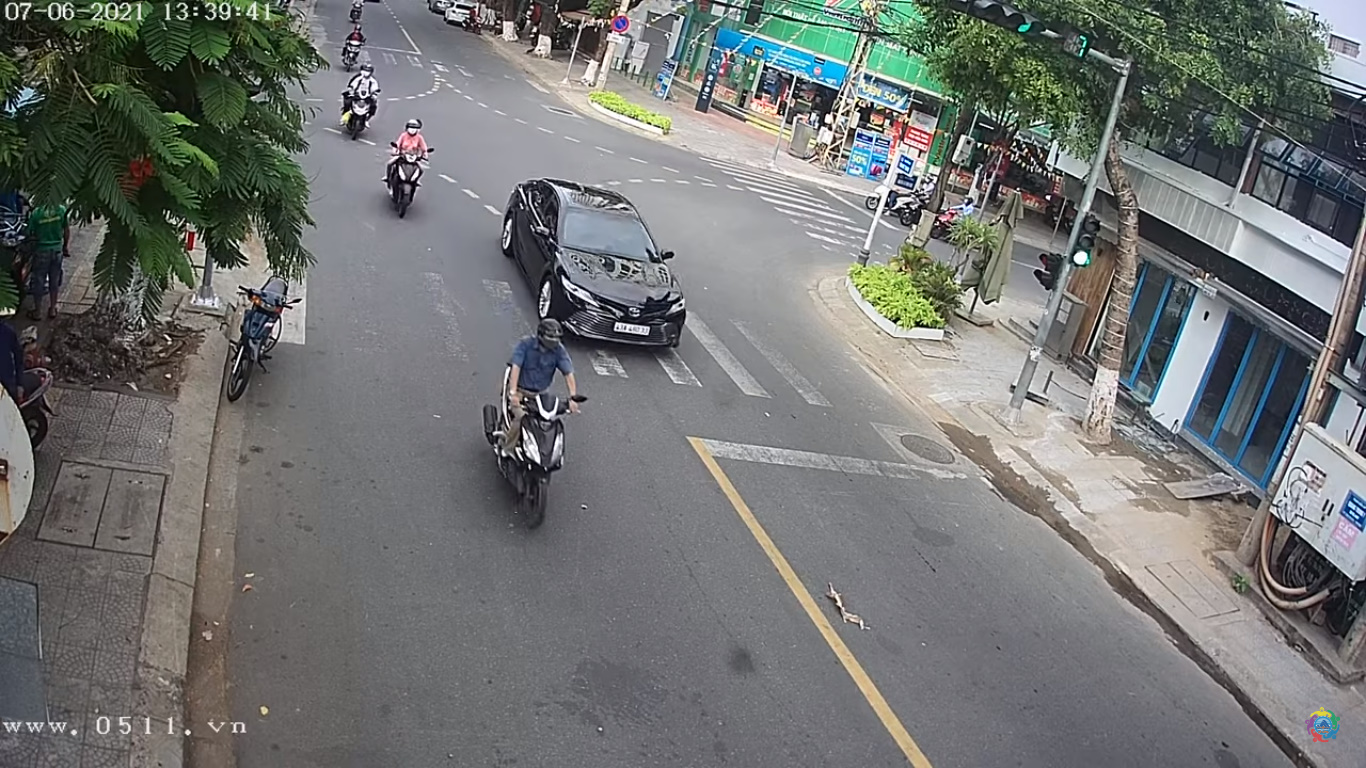car: (500, 174, 694, 361)
